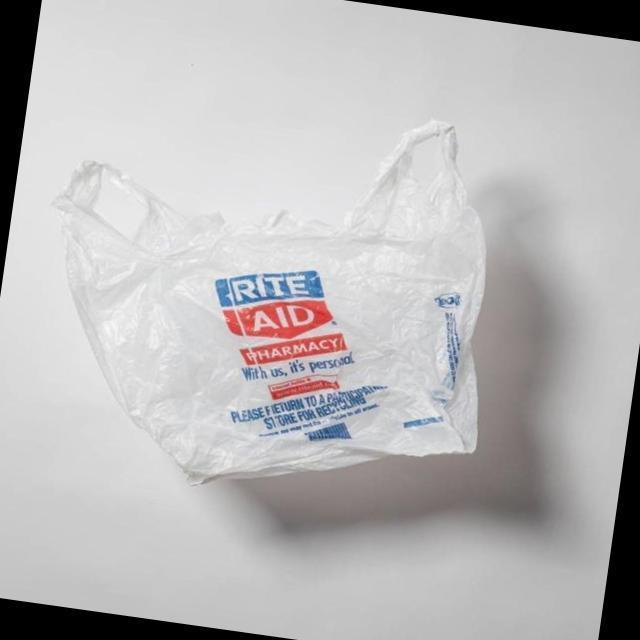Plastic_Bag: (18, 119, 531, 523)
